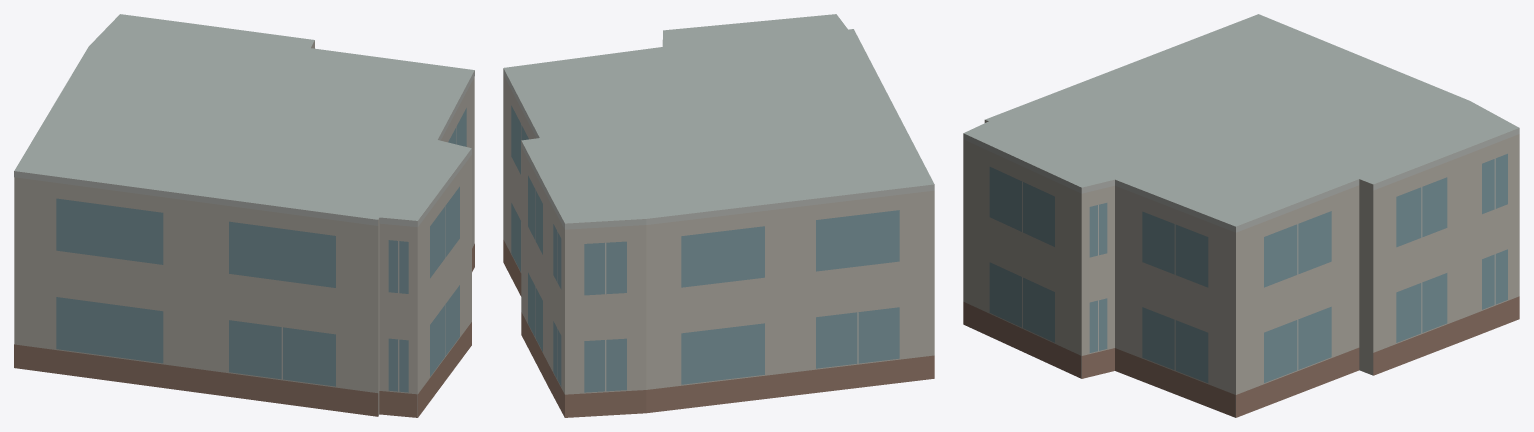
Rendered from survey-upis-32619264.glb.
The picture shows the model from 3 angles, left to right: view 1: azimuth 30°, elevation 25°; view 2: azimuth 150°, elevation 25°; view 3: azimuth 270°, elevation 25°; orthographic projection. The views are drawn at different scales.
Parts seen in each view (by area): view 1: survey-upis-32619264.tmp; view 2: survey-upis-32619264.tmp; view 3: survey-upis-32619264.tmp.
Boxes of the visible parts, x1,y1,x2,y2 form: survey-upis-32619264.tmp: (14, 14, 474, 417); survey-upis-32619264.tmp: (503, 14, 934, 417); survey-upis-32619264.tmp: (963, 14, 1519, 417).
Size of the model in its own units: 18.38 by 7.7 by 20.31.
